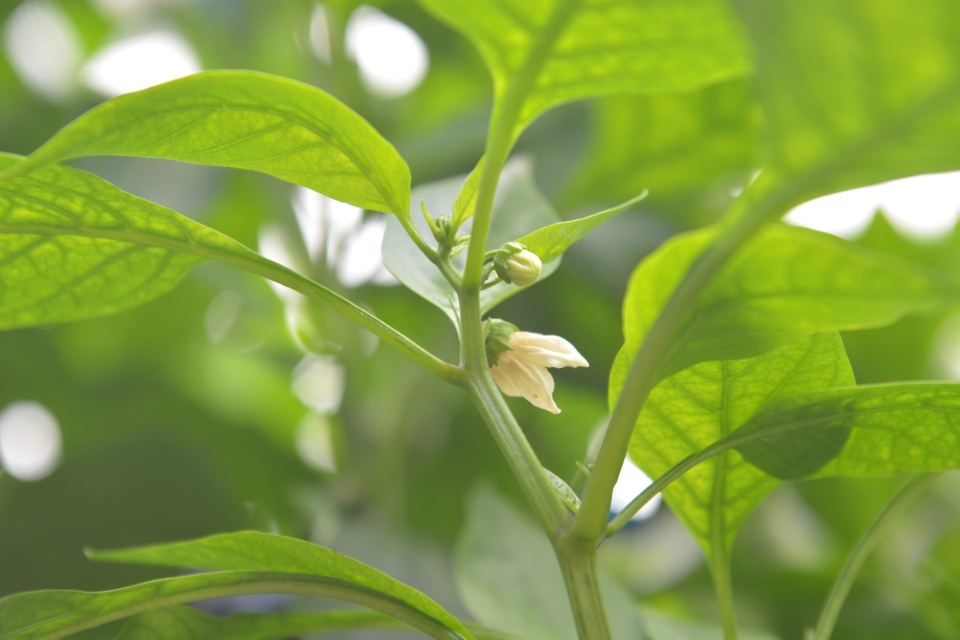flower: (487, 324, 599, 420)
